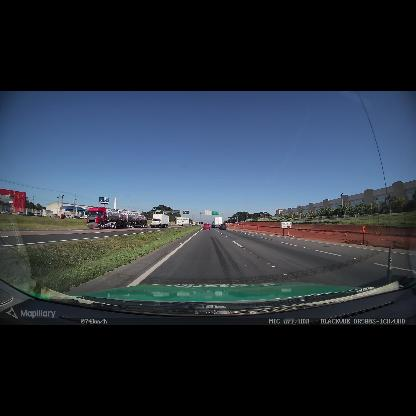I-SA: (177, 217, 190, 224), (281, 222, 292, 228)
R-19: (205, 210, 211, 215)
